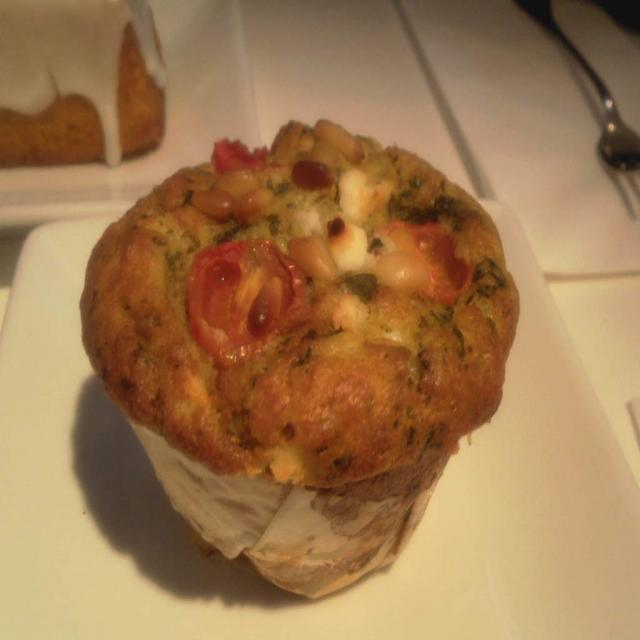Muffin: (84, 124, 524, 606)
